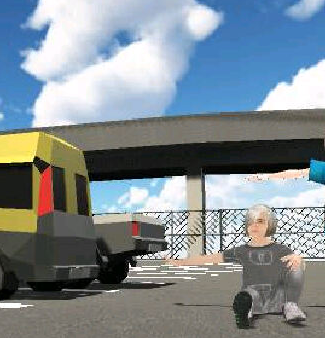doubleP_left: (156, 154, 325, 325)
